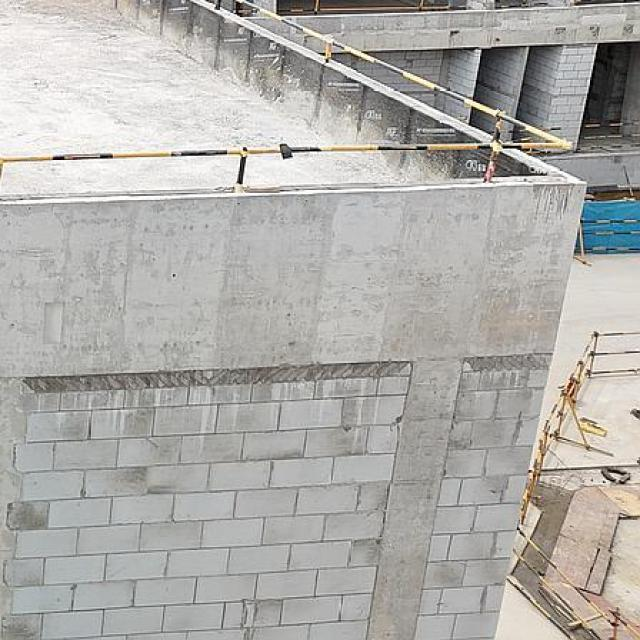edge_guardrail: (0, 0, 573, 193), (278, 0, 451, 17), (484, 126, 563, 143), (580, 121, 640, 140), (495, 0, 548, 10)
